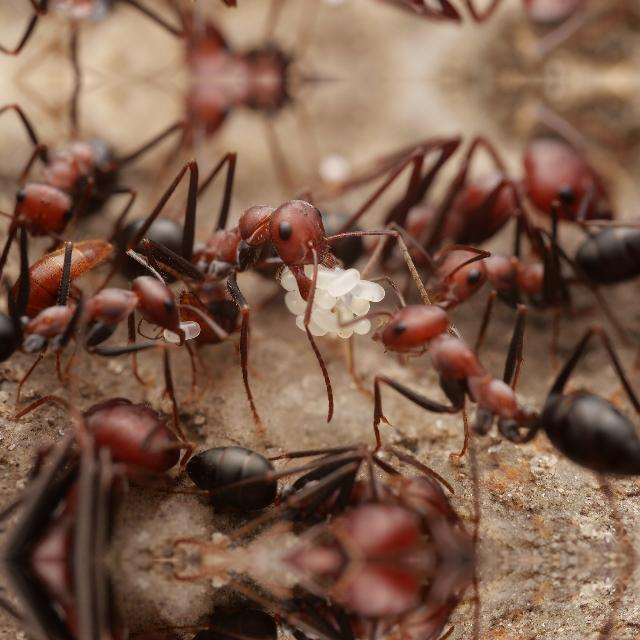Cataglyphis: (344, 294, 640, 478), (338, 202, 634, 351), (304, 134, 602, 268), (114, 168, 362, 304), (0, 244, 208, 382), (54, 377, 250, 509), (182, 436, 460, 510), (0, 113, 134, 245), (288, 477, 464, 557), (288, 562, 462, 640), (150, 5, 318, 80), (150, 80, 318, 154), (182, 608, 458, 640), (0, 0, 134, 46), (52, 610, 250, 640)
